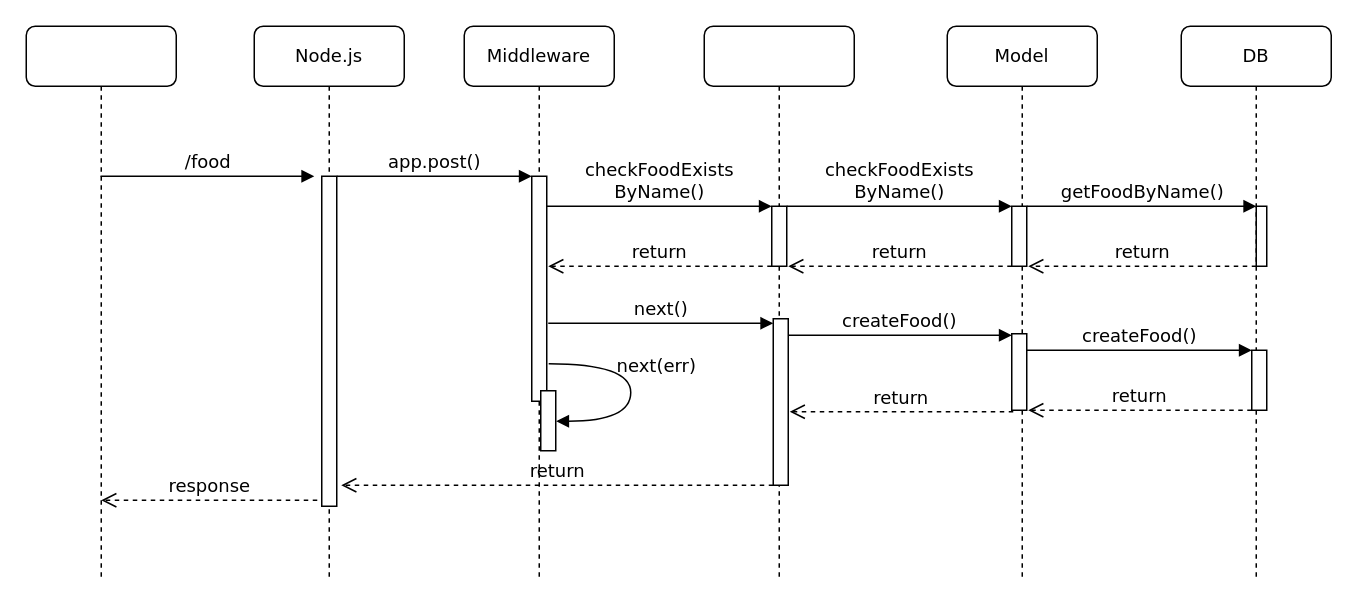
Image size: 1358x608. Some labels were removed from this diagram. The shapes that lost their labels are listed below. From the top down, each one's box as (x1, y1, x2, y2) in pixels, then its label:
(25, 25, 176, 581): Client
(703, 25, 854, 581): Controller
